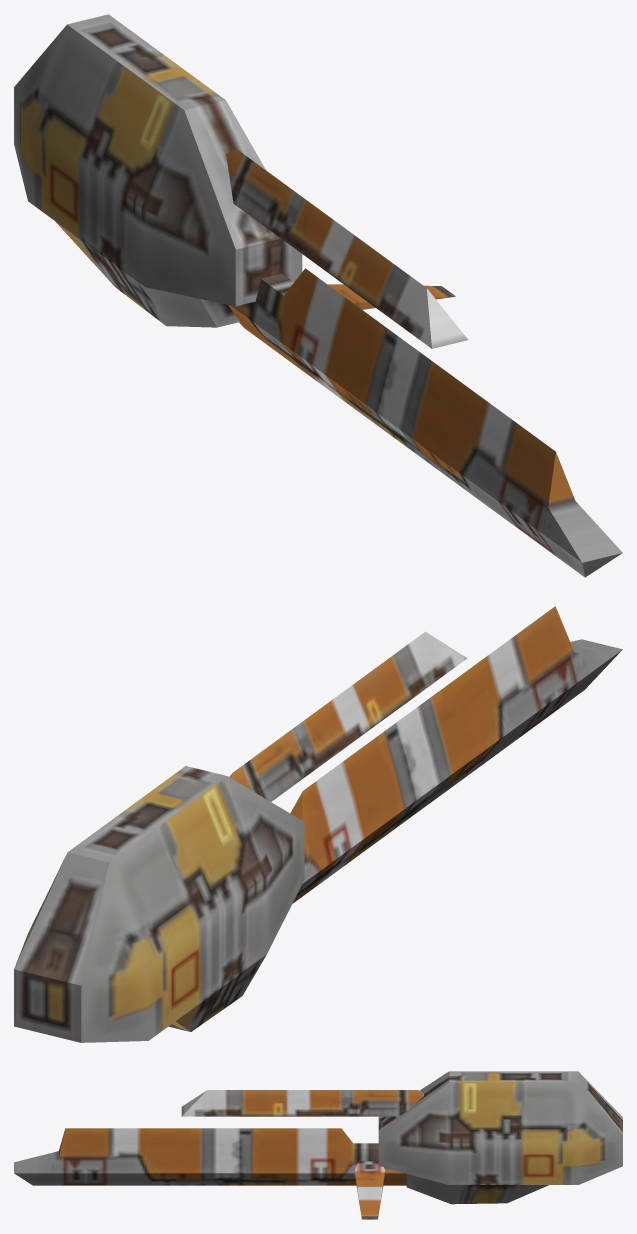
The model's file is sensor_s_03.glb.
3 views of the same model, one above another, from view 1: azimuth 30°, elevation 25°; view 2: azimuth 150°, elevation 25°; view 3: azimuth 270°, elevation 25° (orthographic). The views are drawn at different scales.
Parts seen in each view (by area): view 1: sensor_s_03_LOD0; view 2: sensor_s_03_LOD0; view 3: sensor_s_03_LOD0.
Boxes of the visible parts, <box> form: sensor_s_03_LOD0: <box>14,14,622,577</box>; sensor_s_03_LOD0: <box>14,606,622,1042</box>; sensor_s_03_LOD0: <box>14,1071,622,1219</box>.
Size of the model in its own units: 0.4491 by 0.3945 by 1.86.
Materials: 1 (1 with a texture image).
